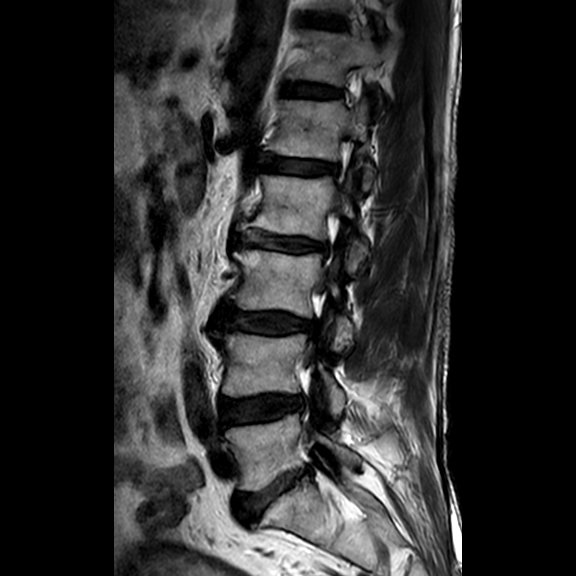LFS0: (322, 127, 362, 192)
